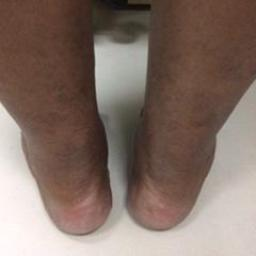Back View -Both Feet-: (8, 82, 246, 243)
